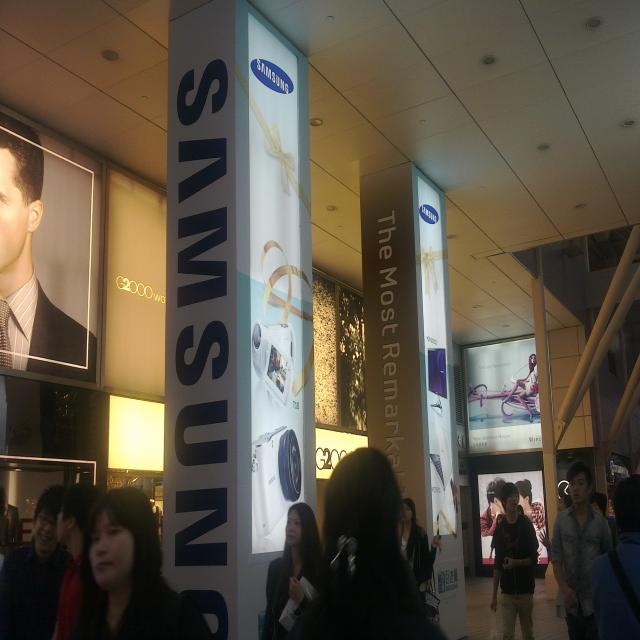body: (284, 447, 451, 640), (0, 109, 101, 378), (71, 483, 228, 640), (549, 460, 614, 640), (260, 500, 339, 640), (0, 487, 70, 640), (586, 470, 640, 640), (45, 482, 102, 639), (484, 481, 540, 640), (399, 497, 442, 631), (538, 493, 576, 630), (500, 354, 544, 419), (588, 492, 620, 553), (516, 474, 546, 530), (480, 475, 505, 531), (489, 514, 504, 561), (516, 504, 533, 526)
